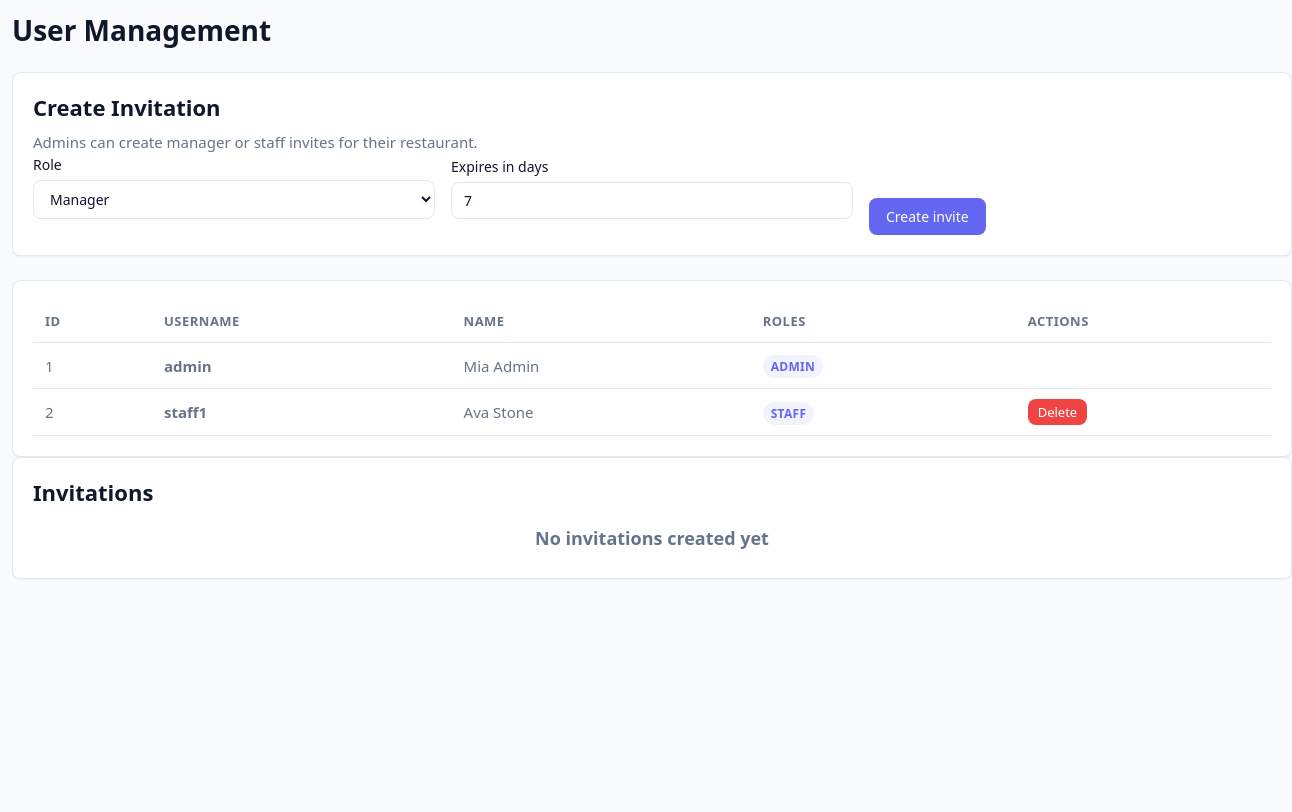
Test case: AdminUsersView › creates an invite and deletes a staff user
This screenshot has width=1292, height=812.
Expected: the text "staff1" is shown, [164,402,207,422]
Step 1. Click the button "Create invite" → (927, 217), box [869,198,986,235]
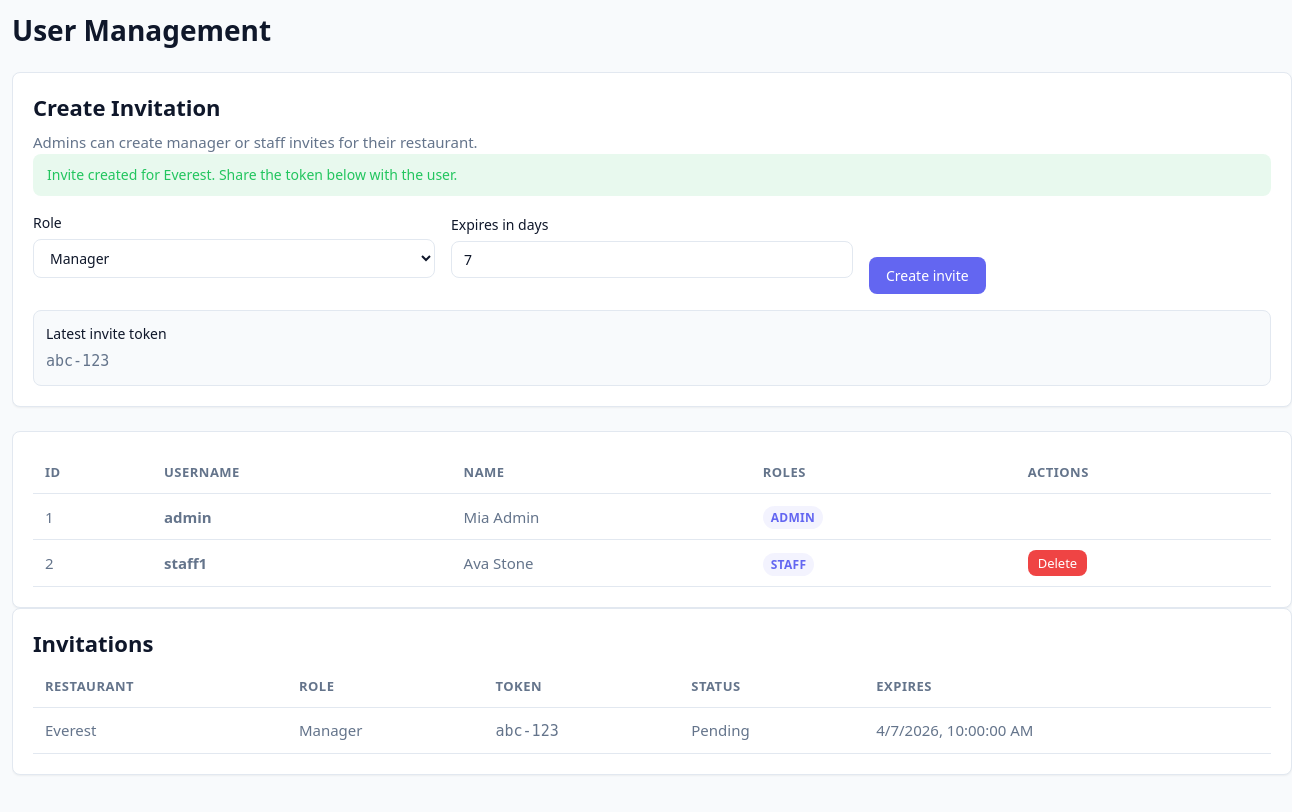
Result: the text "abc-123" below "Latest invite token" is shown at [46,352,109,370]
Step 2. Click the button "Delete" → (1057, 563), box [1028,550,1087,576]
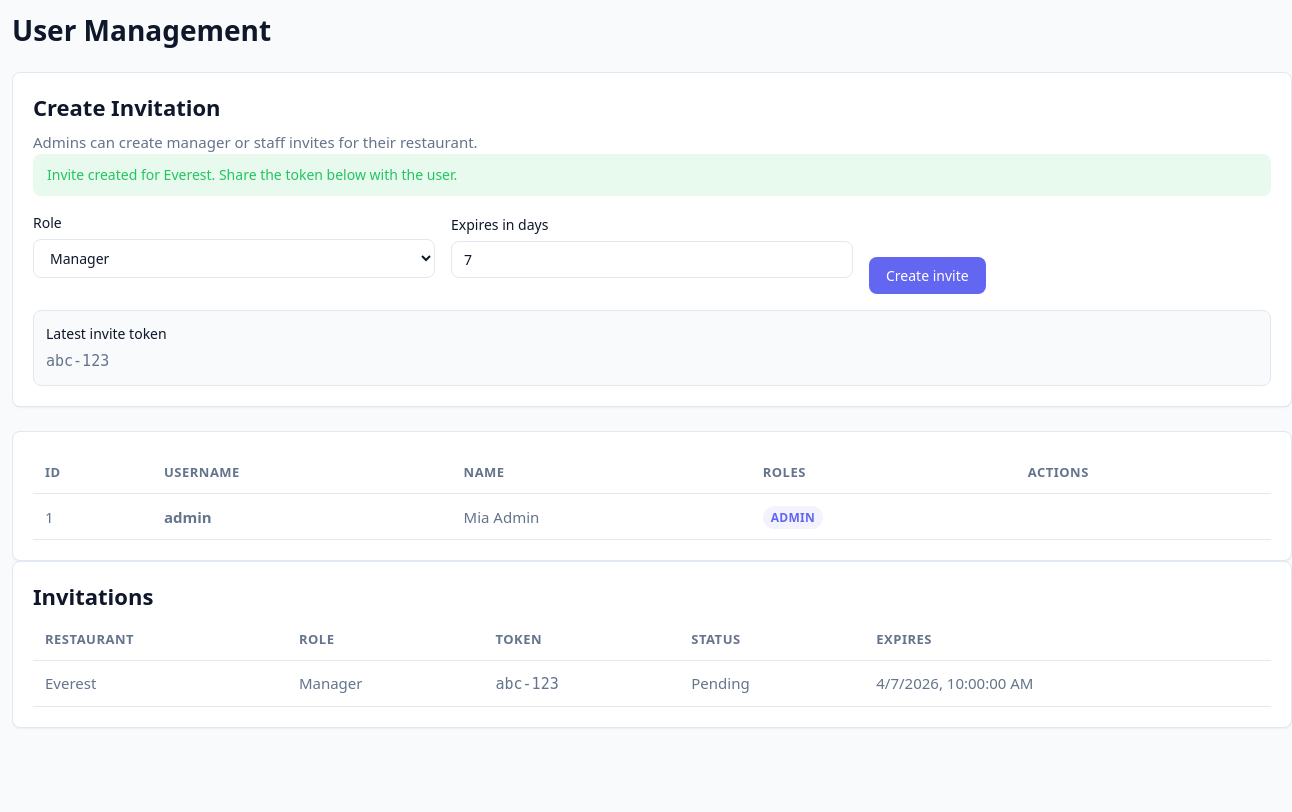
Result: the text "staff1" is gone
